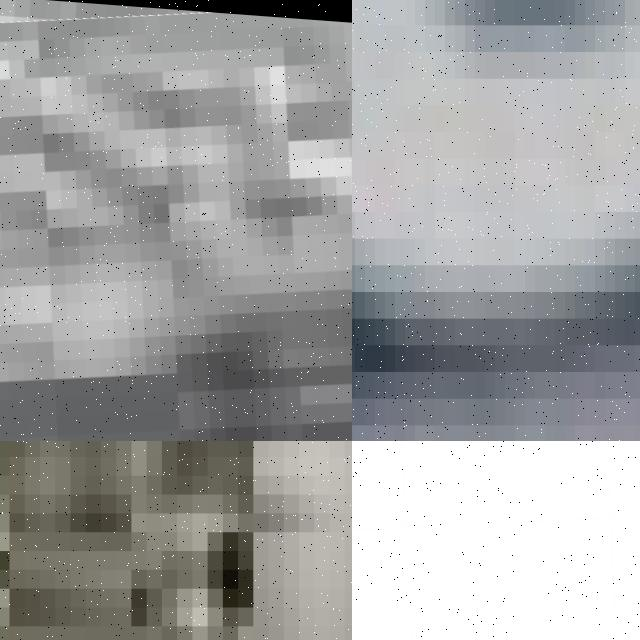0: (0, 0, 352, 441)
drone: (352, 441, 640, 640)
